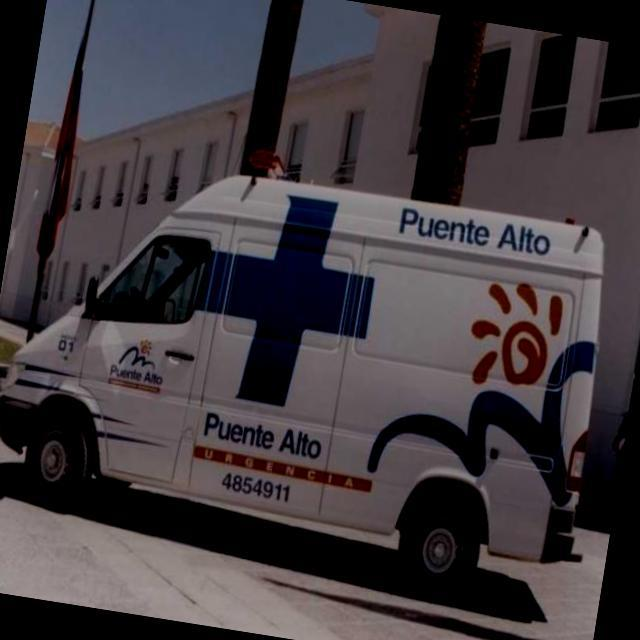emergency-vehicle: (0, 126, 623, 599)
